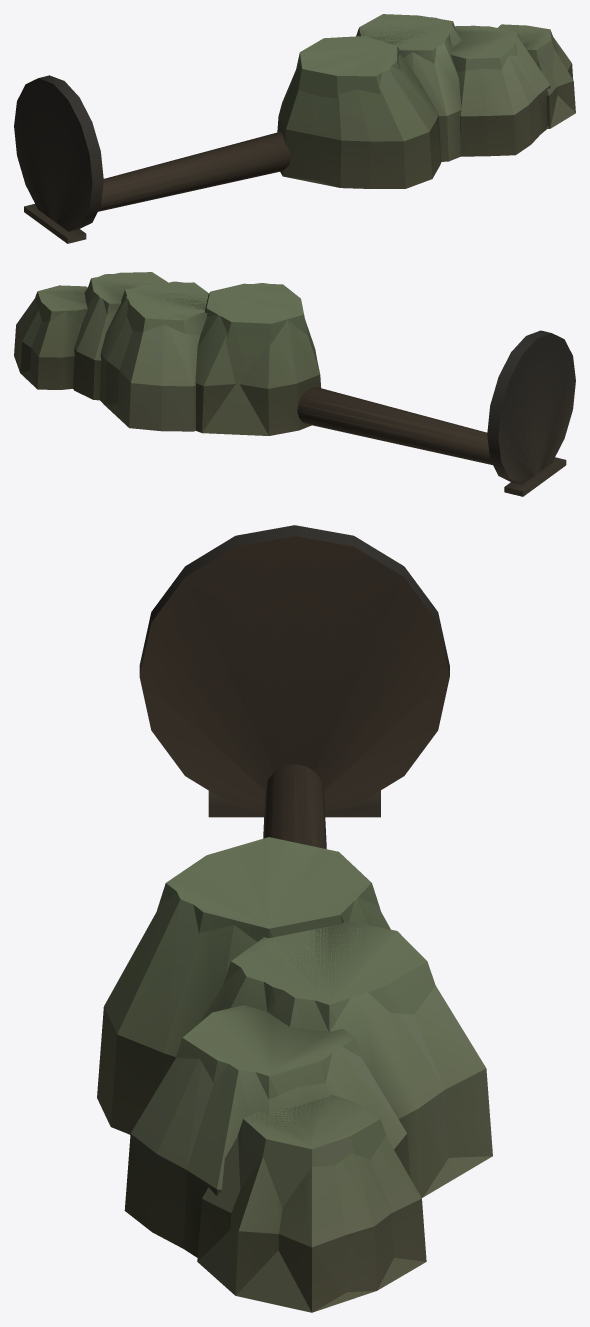
File: neutral_tree_broadleaf_fallen.glb
3 views of the same model, one above another, from view 1: azimuth 30°, elevation 25°; view 2: azimuth 150°, elevation 25°; view 3: azimuth 270°, elevation 25° (orthographic). The views are drawn at different scales.
Visible parts, largest first — view 1: body (×3); view 2: body (×3); view 3: body (×3).
Part boxes in pixels (x1=…): body (×3): x1=14, y1=14, x2=575, y2=243; body (×3): x1=14, y1=272, x2=575, y2=496; body (×3): x1=97, y1=525, x2=492, y2=1312.
Size of the model in its own units: 7.05 by 1.8 by 2.3.
